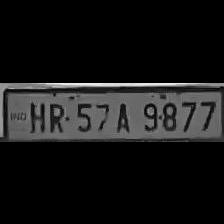5: (70, 97, 94, 130)
7: (92, 98, 112, 132), (178, 97, 198, 131), (196, 97, 216, 130)
8: (158, 97, 178, 130)
9: (136, 97, 160, 130)
A: (110, 98, 134, 132)
H: (26, 98, 46, 132)
R: (44, 100, 68, 132)
